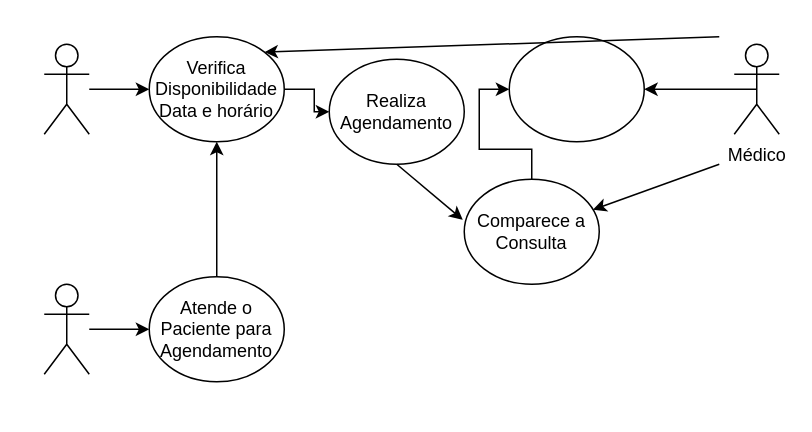
Some shapes in this 812 by 432 pixel diagram are drawn without their labels. The centre of each missing label's shape, as x and y in pixels:
"Atendente" belongs at (x=66, y=328).
"Paciente" belongs at (x=66, y=88).
"Realiza o Atendimento ao Paciente" belongs at (x=576, y=88).
